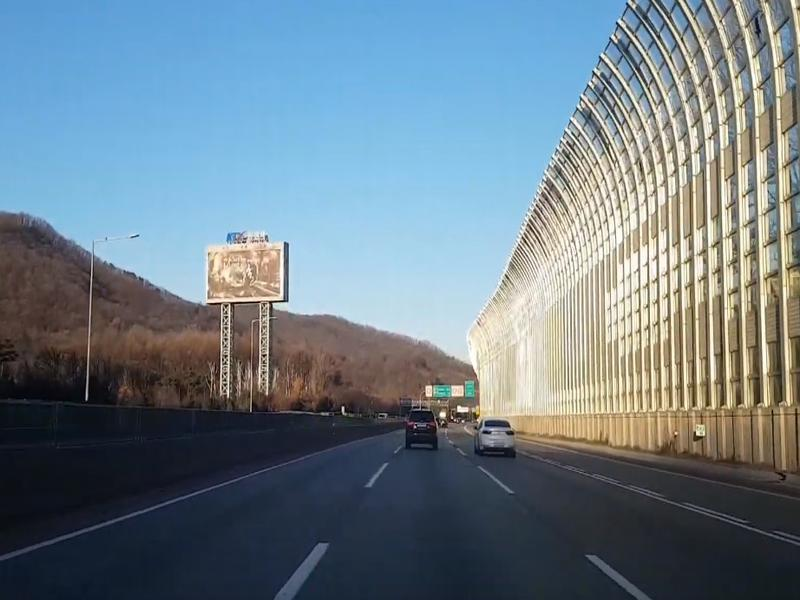car: (473, 419, 515, 455), (405, 407, 437, 447)
lane: (37, 447, 329, 548), (477, 465, 513, 495), (367, 463, 386, 488)
